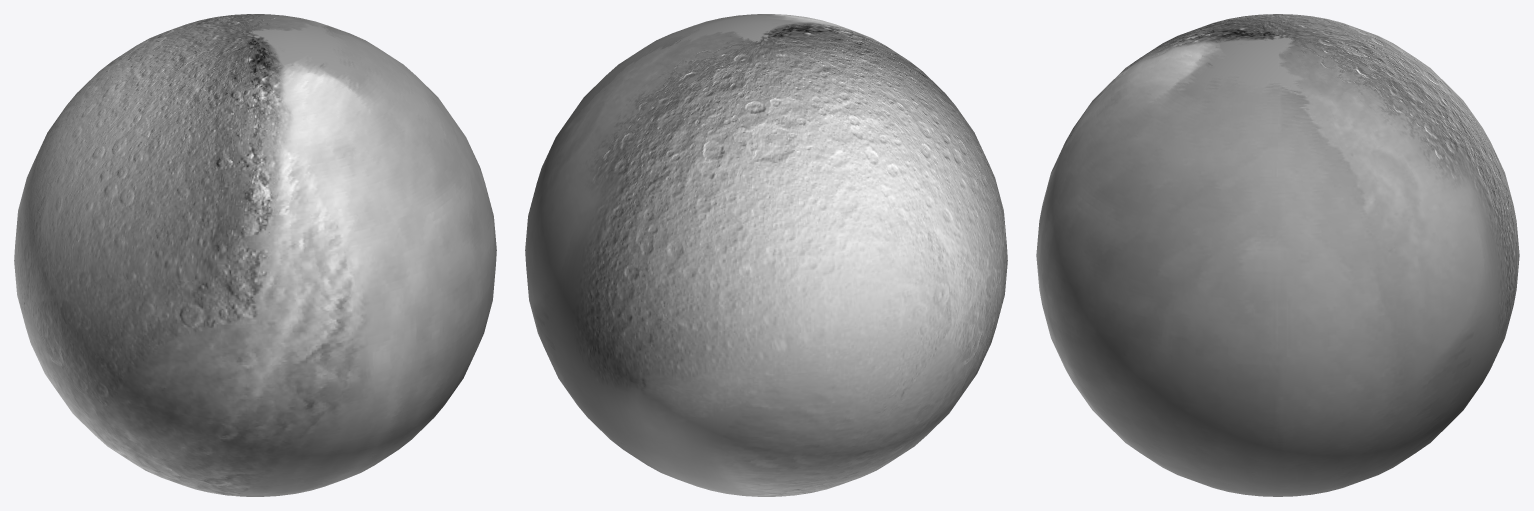
The model's file is rhea.glb.
The picture shows the model from 3 angles, left to right: view 1: azimuth 30°, elevation 25°; view 2: azimuth 150°, elevation 25°; view 3: azimuth 270°, elevation 25°; orthographic projection.
Size of the model in its own units: 2 by 2 by 2.
Materials: 1 (1 with a texture image).
